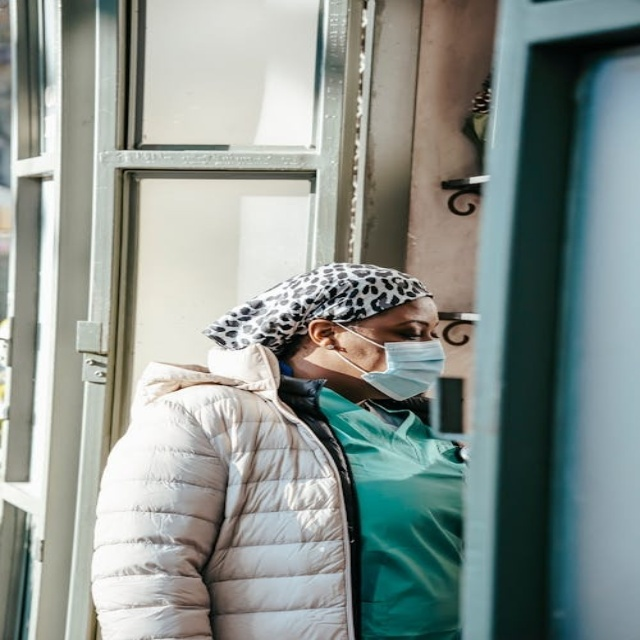Mascara: (332, 320, 446, 401)
Sin_gafas: (380, 313, 449, 340)
